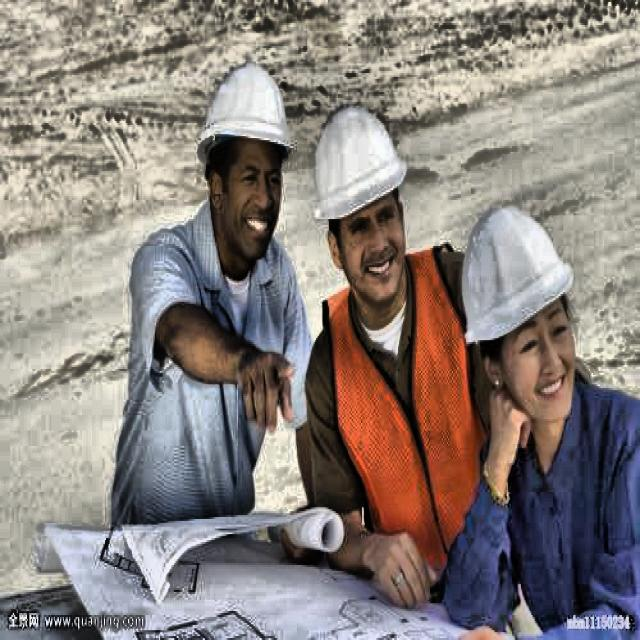helmet: (447, 192, 586, 442), (187, 50, 299, 271), (304, 98, 418, 313)
